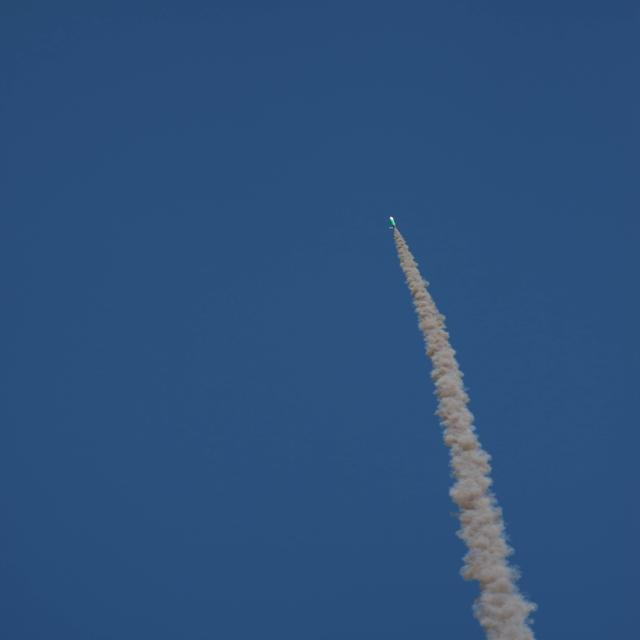Rocket: (389, 216, 398, 229)
